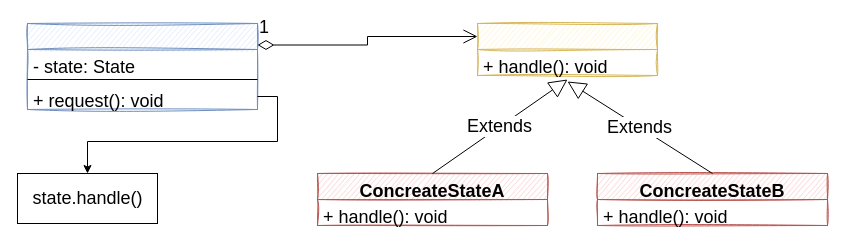
This 845x246 diagram has some shape labels left out. Here are the shapes that lost their labels. From the top down, the box of each, then its label:
(26, 22, 258, 110): Context
(476, 22, 658, 76): State
